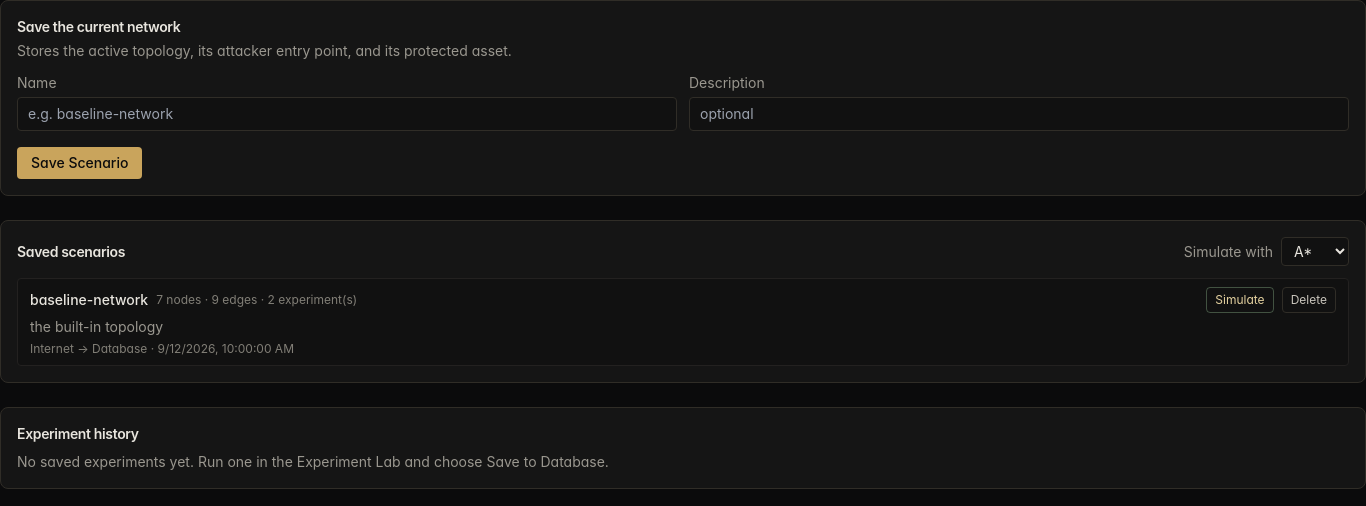
Test: ScenariosPage › deletes a scenario
This screenshot has width=1366, height=506.
Expected: the text "baseline-network" is shown, 30,290 -> 148,310
Step 1. Click the button with aria-label "Delete baseline-network" → [1309, 300], box 1282,287 -> 1336,313
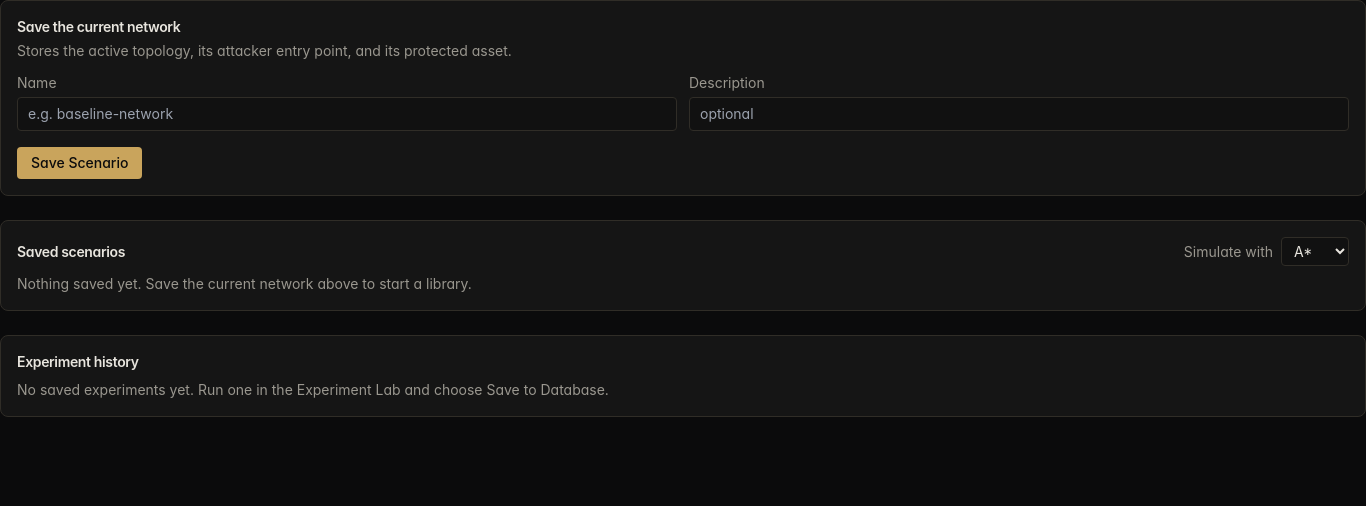
Now the text "Nothing saved yet" is shown, box 17,275 -> 472,292
